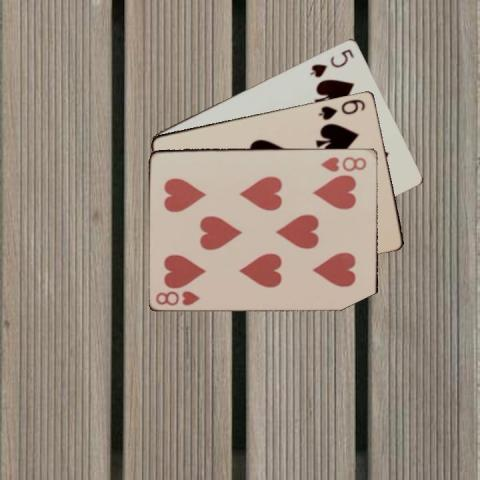5s: (307, 45, 356, 79)
6s: (316, 96, 367, 122)
8h: (318, 153, 368, 173), (153, 288, 202, 307)
